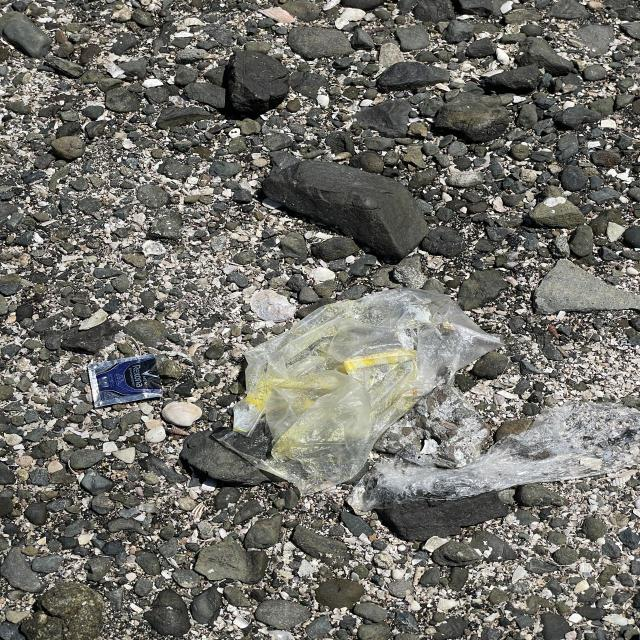plastic_waste: (230, 286, 510, 500), (86, 354, 164, 406)
